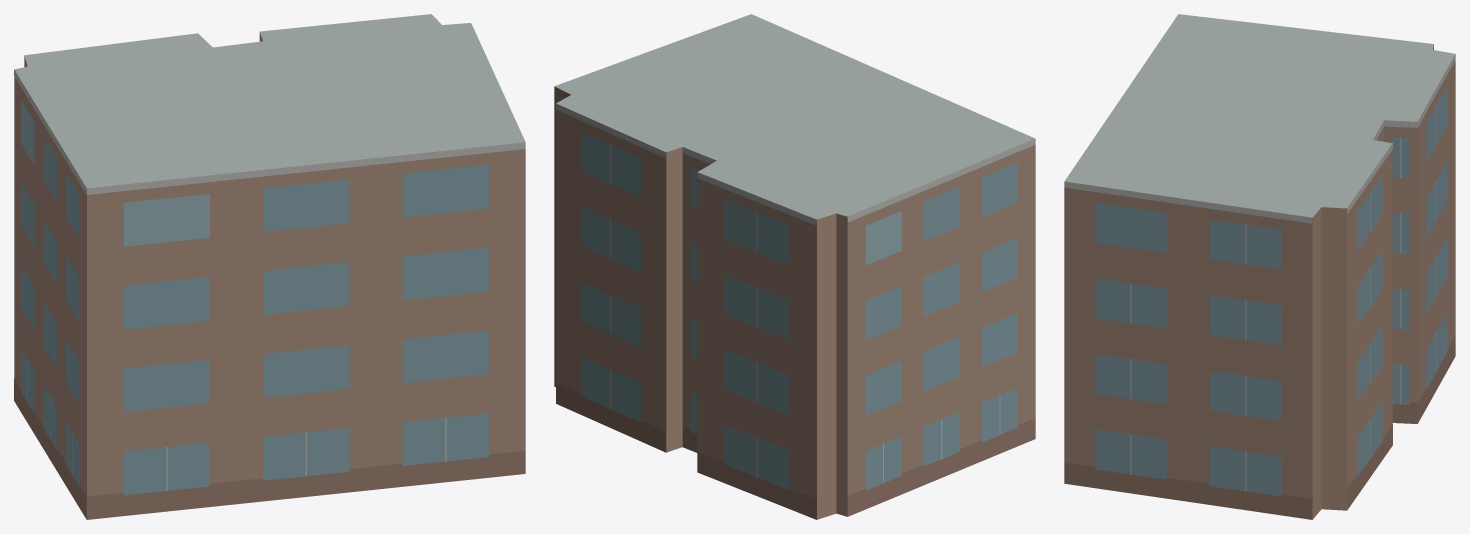
File: survey-upis-32668372.glb
3 views of the same model, side by side, from view 1: azimuth 30°, elevation 25°; view 2: azimuth 150°, elevation 25°; view 3: azimuth 270°, elevation 25° (orthographic). The views are drawn at different scales.
Parts seen in each view (by area): view 1: survey-upis-32668372.tmp; view 2: survey-upis-32668372.tmp; view 3: survey-upis-32668372.tmp.
Part boxes in pixels (x1,y1,x2,y2): survey-upis-32668372.tmp: [14, 14, 525, 519]; survey-upis-32668372.tmp: [554, 14, 1035, 519]; survey-upis-32668372.tmp: [1064, 14, 1455, 519].
Size of the model in its own units: 17.65 by 12.2 by 14.33.
